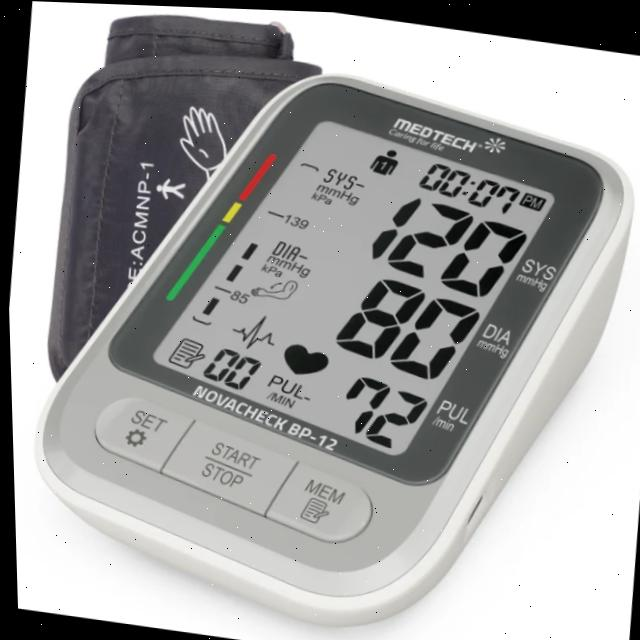dia: (320, 256, 488, 387)
pul: (309, 353, 439, 460)
ssd: (151, 59, 554, 492)
sys: (356, 176, 537, 309)
